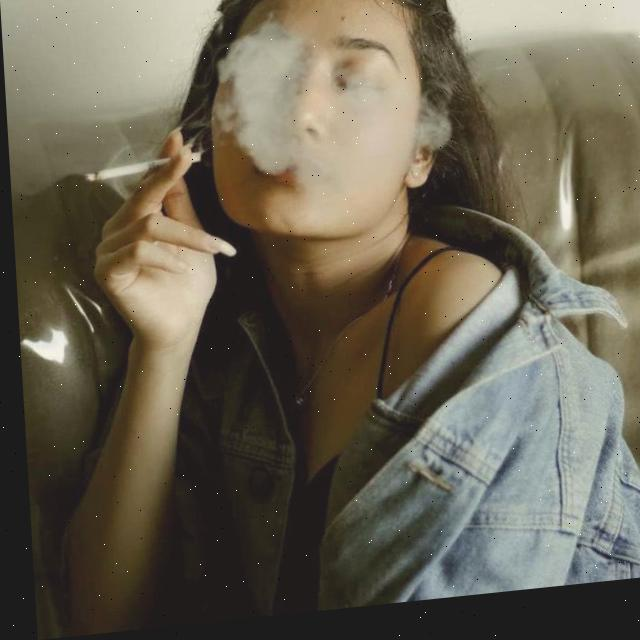cigarette: (82, 156, 199, 184)
